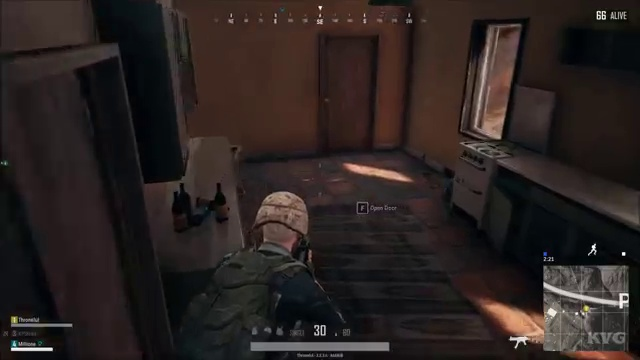Player: (188, 185, 384, 308)
